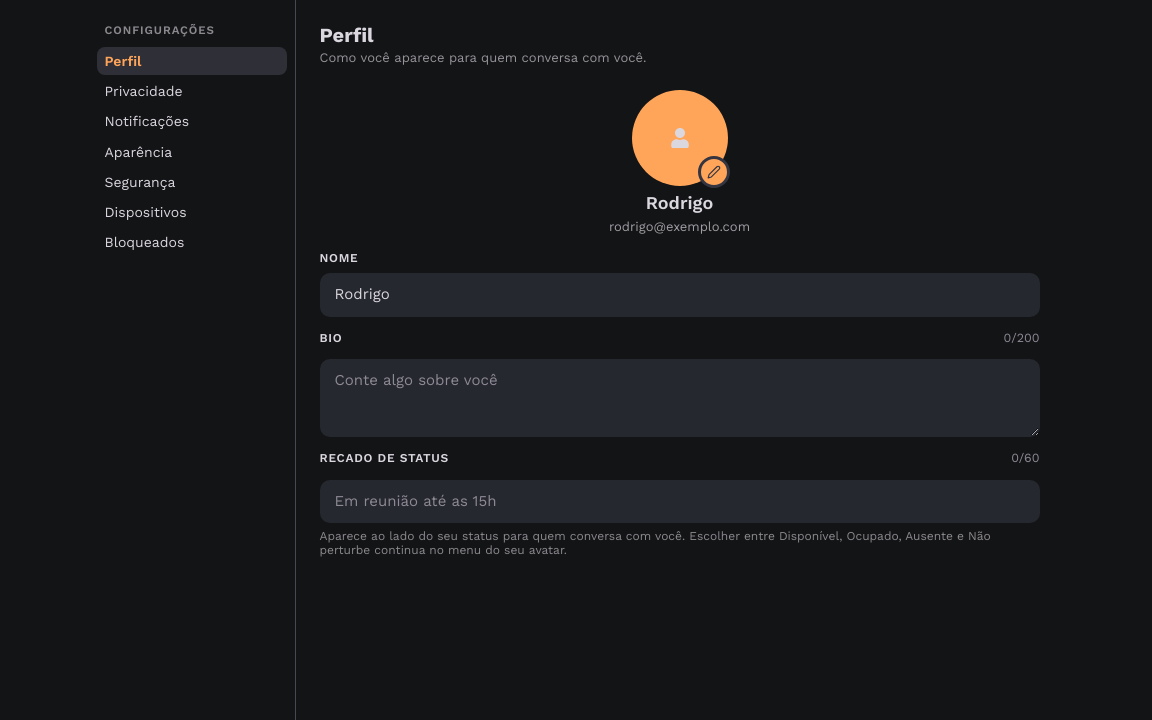
Test: Settings · seções por endereço › mantem o que foi digitado ao trocar de seção
The image size is (1152, 720).
Replace the text in the field labelled "Nome" with "Rodrigo Almeida": (680, 295) x1=320 y1=274 x2=1038 y2=316
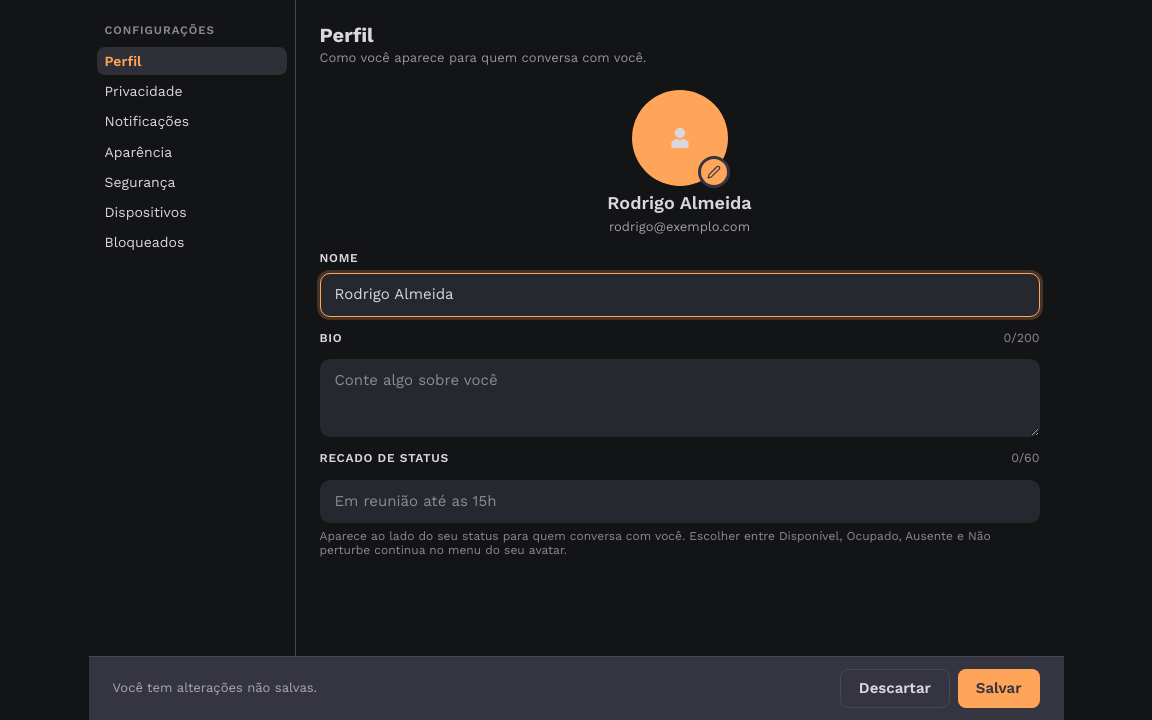
Click the link "Privacidade": (144, 91) x1=104 y1=83 x2=183 y2=99
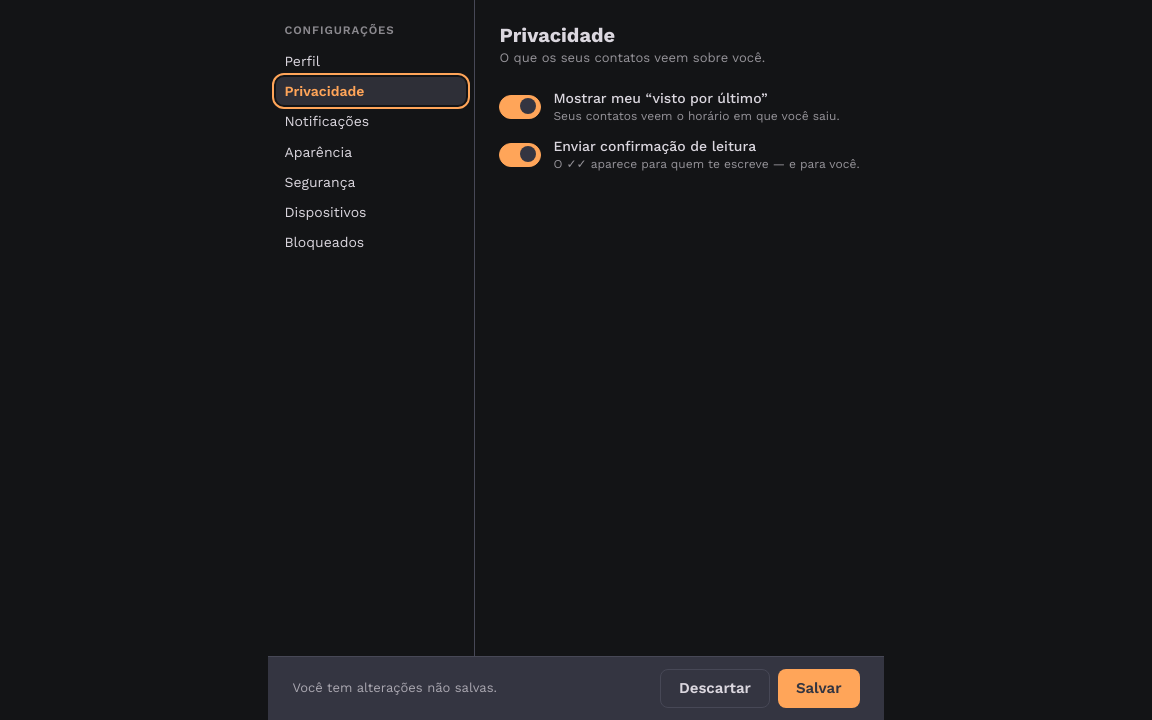
Check: the label labelled "Nome" is gone
Click the link "Perfil": (302, 61) x1=284 y1=53 x2=320 y2=69
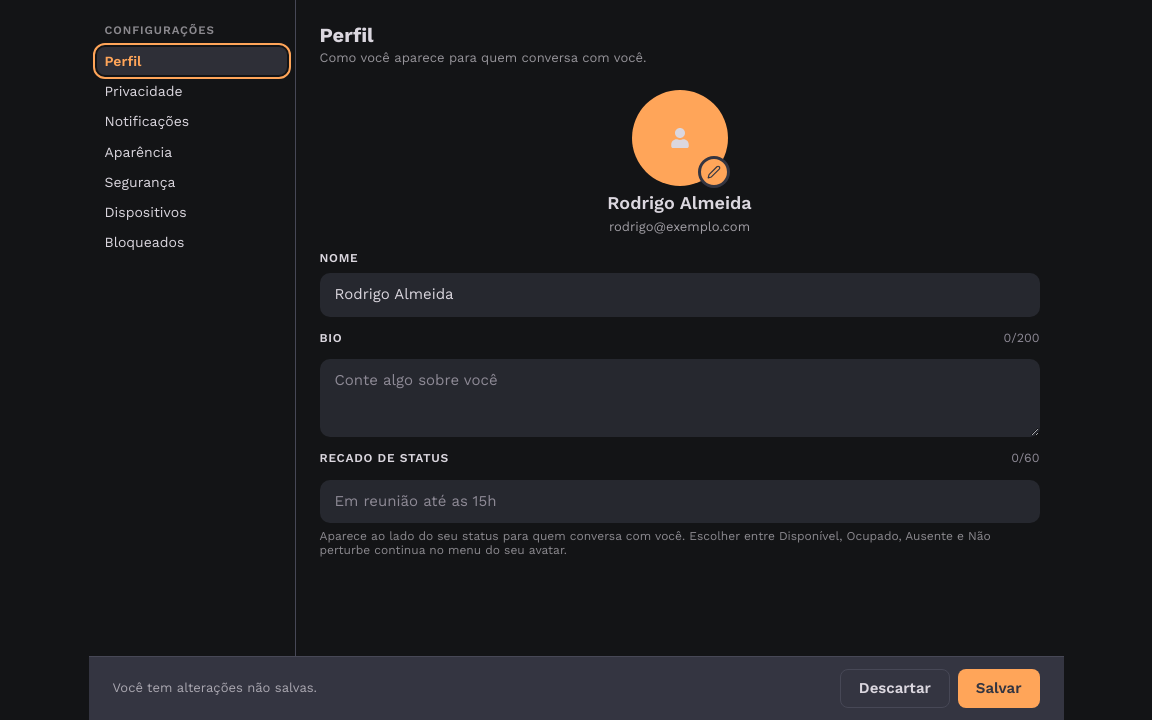
Check: the field labelled "Nome" holds "Rodrigo Almeida", box x1=320 y1=274 x2=1038 y2=316
